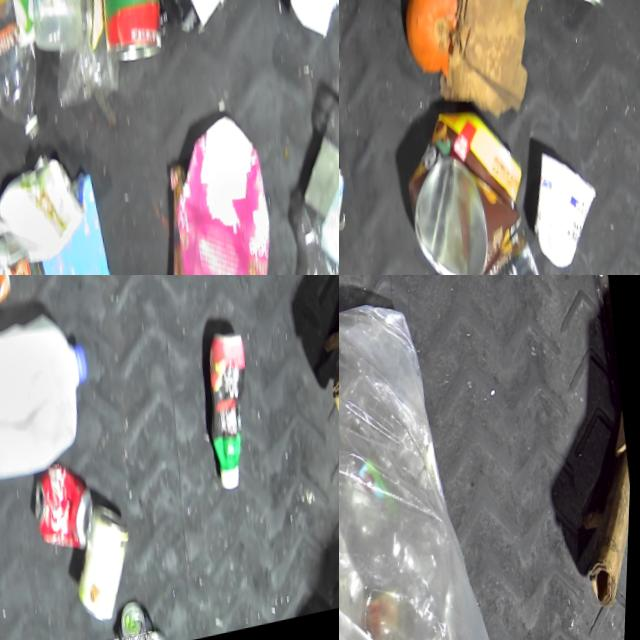can: (395, 100, 539, 275), (66, 504, 144, 634), (28, 461, 103, 567), (84, 0, 173, 72), (339, 152, 357, 275), (115, 602, 173, 640), (543, 0, 622, 22)
milk_jug: (0, 307, 104, 497), (0, 148, 93, 275)
non_white_jug: (159, 115, 292, 275), (272, 0, 339, 50)
plastic_bottle: (262, 98, 339, 275), (0, 0, 51, 149), (12, 0, 99, 62)
